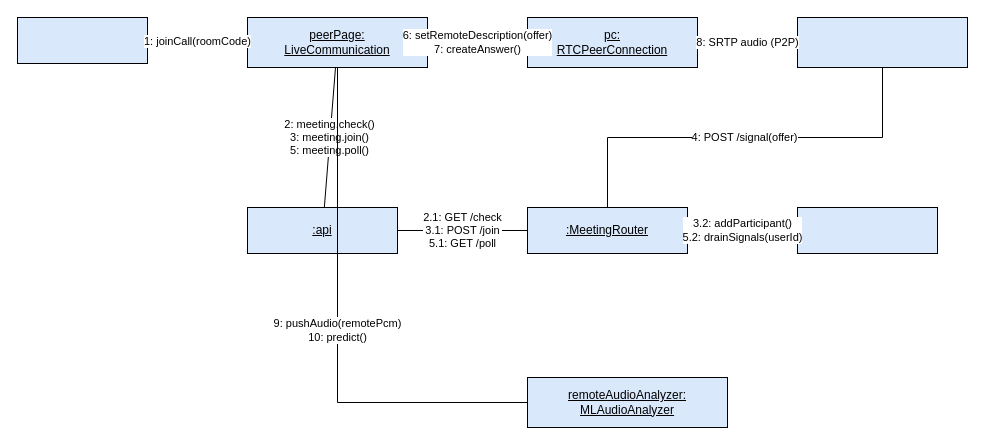
Image size: 985x445. Some labels were removed from this diagram. Each missing label, with the centre of its shape:
":Peer User" belongs at (x=82, y=40).
"hostPage: LiveCommunication" belongs at (x=882, y=42).
"room:Room" belongs at (x=867, y=230).
